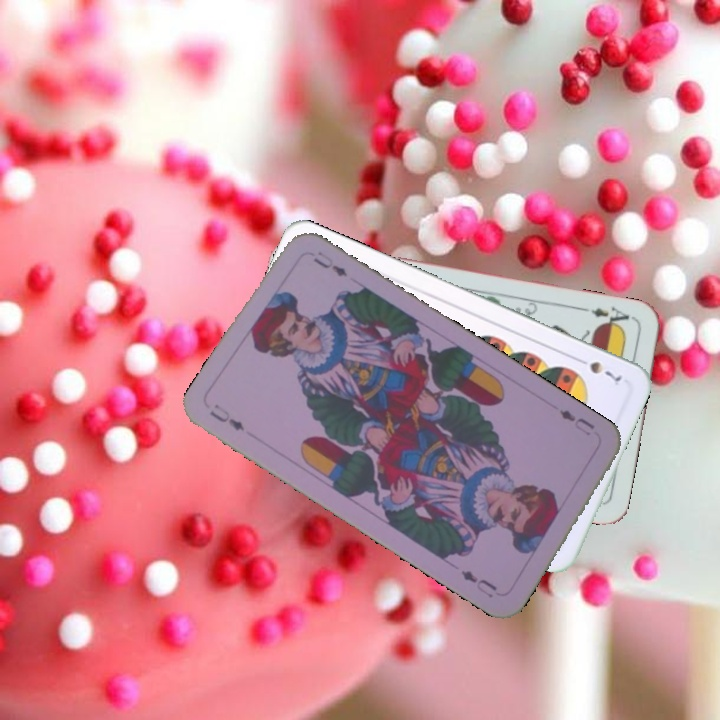EA: (579, 303, 632, 331)
EU: (555, 405, 597, 439), (206, 400, 248, 434)
S7: (571, 353, 625, 385)
